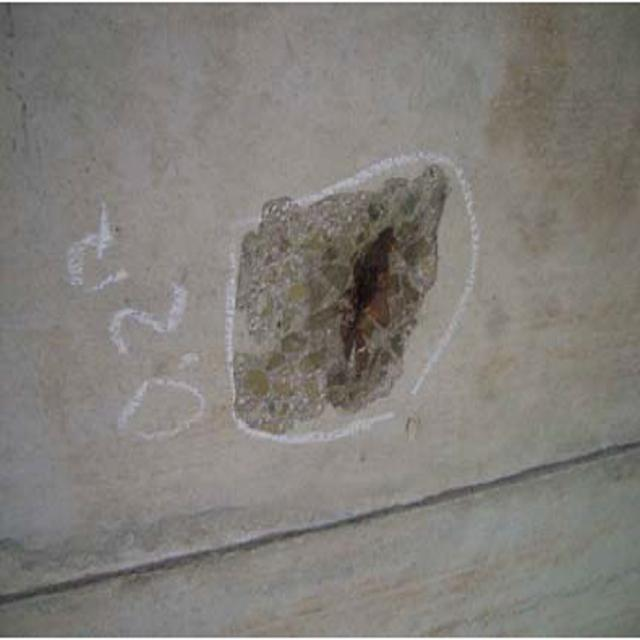spalling: (216, 154, 450, 436)
